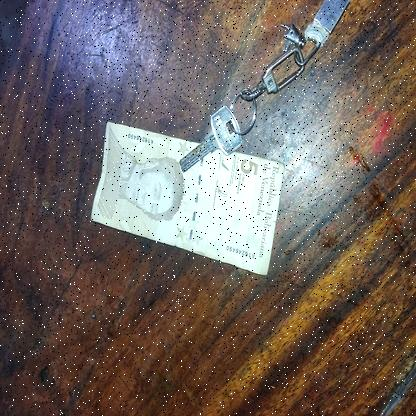five-front-vef: (90, 120, 284, 275)
